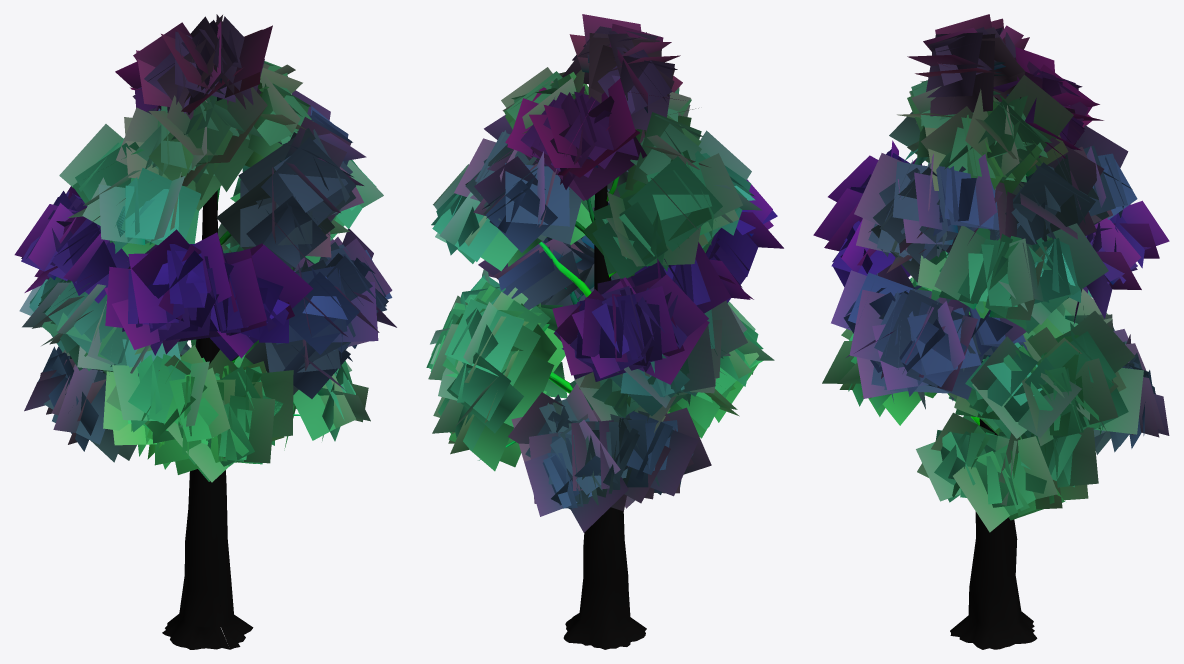
The model's file is Tree_1.fbx.
3 views of the same model, side by side, from view 1: azimuth 30°, elevation 25°; view 2: azimuth 150°, elevation 25°; view 3: azimuth 270°, elevation 25° (orthographic). The views are drawn at different scales.
Visible parts, largest first — view 1: Tree_2, Tree_0; view 2: Tree_2, Tree_0; view 3: Tree_2, Tree_0.
Boxes of the visible parts, x1,y1,x2,y2 form: Tree_2: (14, 14, 396, 482); Tree_0: (162, 187, 299, 649); Tree_2: (426, 14, 783, 532); Tree_0: (478, 176, 646, 649); Tree_2: (813, 14, 1169, 532); Tree_0: (947, 97, 1065, 649).
Bounding box in the file's own units: 286 × 543 × 290.
